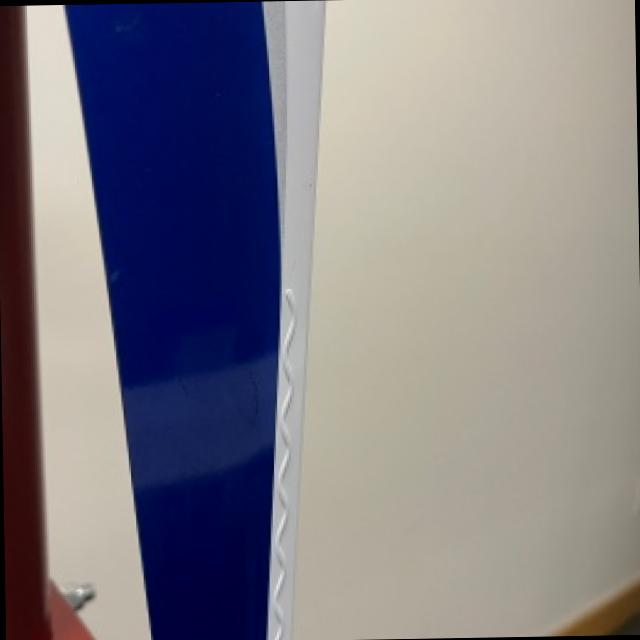healthy: (296, 0, 640, 638), (29, 4, 148, 640)
